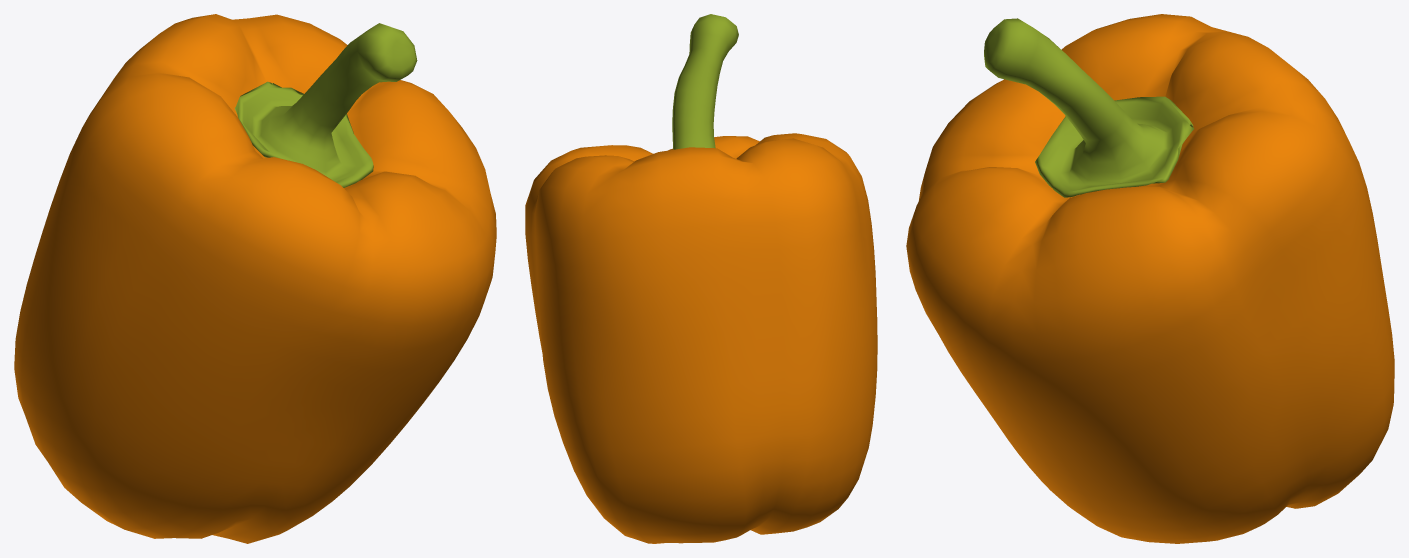
The model's file is BellPepper5.fbx.
The picture shows the model from 3 angles, left to right: view 1: azimuth 30°, elevation 25°; view 2: azimuth 150°, elevation 25°; view 3: azimuth 270°, elevation 25°; orthographic projection. The views are drawn at different scales.
Parts seen in each view (by area): view 1: BellPepper5; view 2: BellPepper5; view 3: BellPepper5.
Part boxes in pixels (box(x1,y1,x2,y2)): BellPepper5: box(14, 14, 496, 543); BellPepper5: box(525, 14, 877, 543); BellPepper5: box(906, 14, 1394, 543).
Size of the model in its own units: 0.0409 by 0.0524 by 0.0422.
